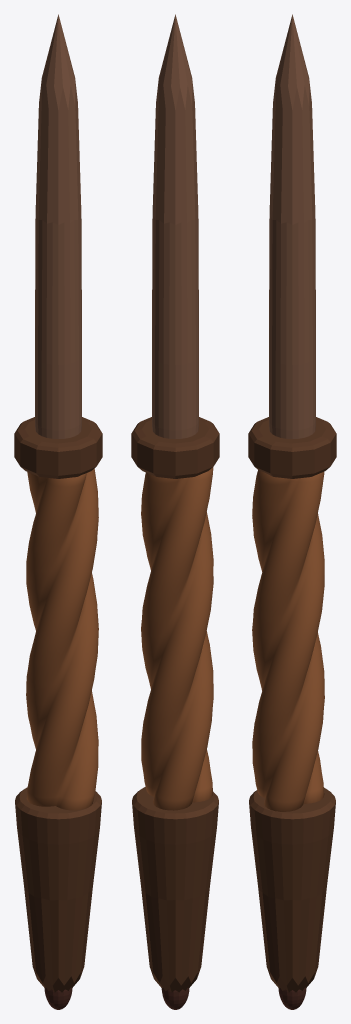
Rendered from Wand 806.glb.
3 views of the same model, side by side, from view 1: azimuth 90°, elevation 25°; view 2: azimuth 150°, elevation 25°; view 3: azimuth 270°, elevation 25° (orthographic).
Visible parts, largest first — view 1: GeneratedWand; view 2: GeneratedWand; view 3: GeneratedWand.
Part boxes in pixels (x1,y1,x2,y2): GeneratedWand: (14,14,102,1009); GeneratedWand: (131,14,219,1009); GeneratedWand: (248,14,336,1009).
Size of the model in its own units: 0.0398 by 0.496 by 0.0398.
